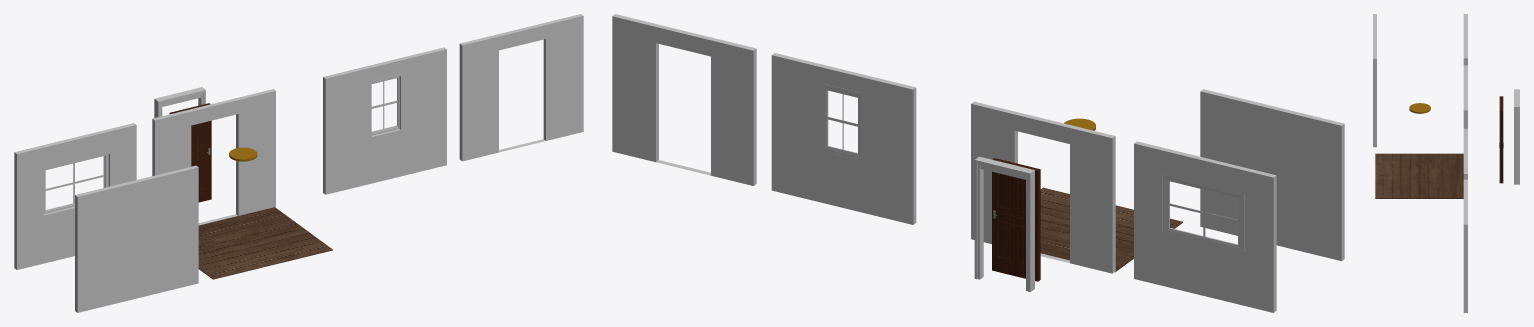
Rendered from house assets 1.fbx.
The picture shows the model from 3 angles, left to right: view 1: azimuth 30°, elevation 25°; view 2: azimuth 150°, elevation 25°; view 3: azimuth 270°, elevation 25°; orthographic projection. The views are drawn at different scales.
Visible parts, largest first — view 1: wall.001, window wall 2, wall with door frame.001, window wall, wall with door frame, floor and ceilling, Plane.003, Plane.001; view 2: window wall 2, window wall, wall.001, wall with door frame.001, wall with door frame, Plane.003, floor and ceilling, Plane.001; view 3: floor and ceilling, wall with door frame.001, Plane.001, wall.001, Plane.003, wall with door frame, window wall, window wall 2, light.
Part boxes in pixels (left/top/right/bottom): wall.001: left=75, top=165, right=198, bottom=312; window wall 2: left=323, top=47, right=446, bottom=194; wall with door frame.001: left=459, top=14, right=583, bottom=161; window wall: left=14, top=123, right=136, bottom=269; wall with door frame: left=152, top=89, right=275, bottom=225; floor and ceilling: left=198, top=207, right=332, bottom=279; Plane.003: left=169, top=103, right=211, bottom=202; Plane.001: left=154, top=87, right=205, bottom=117; window wall 2: left=771, top=53, right=916, bottom=224; window wall: left=1134, top=141, right=1276, bottom=312; wall.001: left=1200, top=89, right=1344, bottom=261; wall with door frame.001: left=612, top=14, right=756, bottom=185; wall with door frame: left=971, top=101, right=1115, bottom=273; Plane.003: left=992, top=158, right=1040, bottom=281; floor and ceilling: left=1040, top=187, right=1182, bottom=272; Plane.001: left=974, top=156, right=1034, bottom=292; floor and ceilling: left=1375, top=153, right=1463, bottom=198; wall with door frame.001: left=1463, top=179, right=1467, bottom=312; Plane.001: left=1514, top=89, right=1519, bottom=184; wall.001: left=1373, top=14, right=1376, bottom=147; Plane.003: left=1499, top=96, right=1503, bottom=183; wall with door frame: left=1463, top=65, right=1467, bottom=128; window wall: left=1463, top=14, right=1467, bottom=65; window wall 2: left=1463, top=128, right=1467, bottom=179; light: left=1409, top=103, right=1430, bottom=113.
Size of the model in its own units: 5650 by 1117 by 1663.
